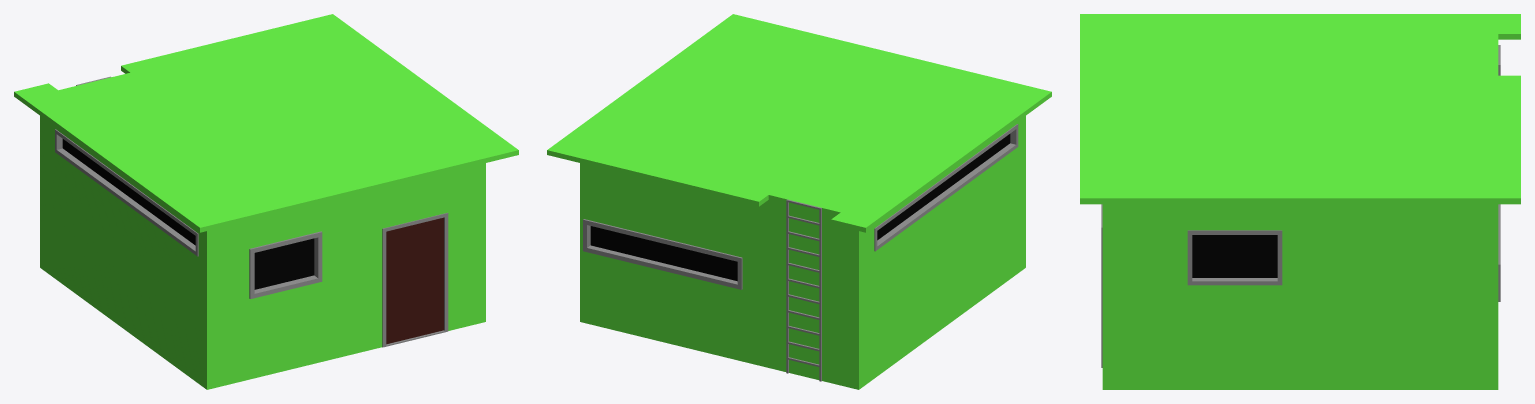
Rendered from Shack 2x2.FBX.
The picture shows the model from 3 angles, left to right: view 1: azimuth 30°, elevation 25°; view 2: azimuth 150°, elevation 25°; view 3: azimuth 270°, elevation 25°; orthographic projection. The views are drawn at different scales.
Visible parts, largest first — view 1: Shack 2x1; view 2: Shack 2x1, Ladder; view 3: Shack 2x1.
Part boxes in pixels (x1=…): Shack 2x1: x1=14, y1=14, x2=518, y2=389; Shack 2x1: x1=547, y1=14, x2=1051, y2=389; Ladder: x1=786, y1=199, x2=821, y2=381; Shack 2x1: x1=1080, y1=14, x2=1520, y2=389.
Bounding box in the file's own units: 193 × 100 × 195.
